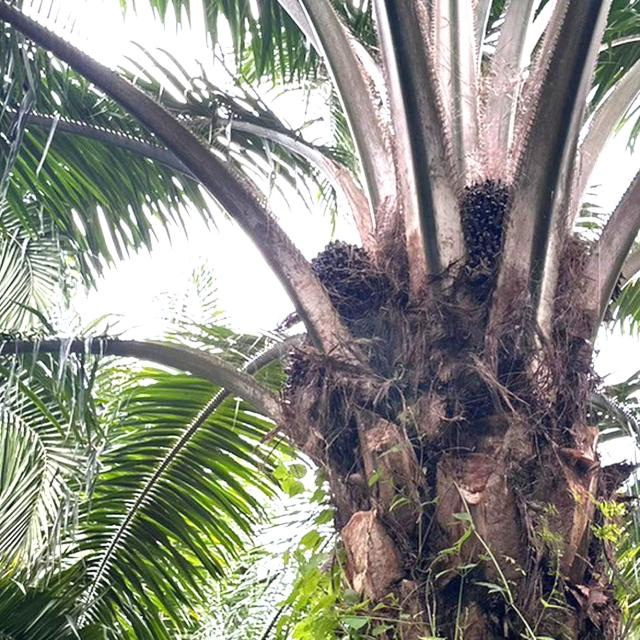unripe: (292, 230, 402, 332), (438, 178, 530, 285), (264, 333, 340, 427)
